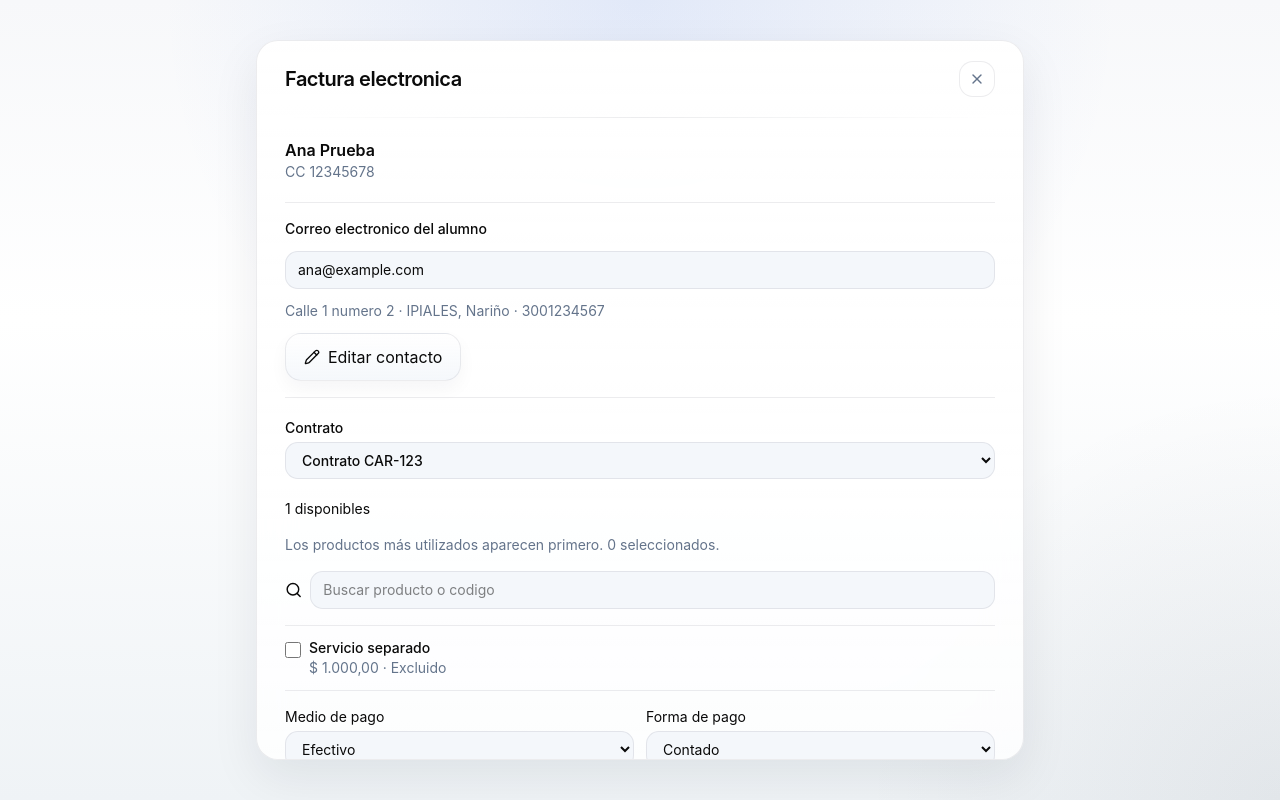
Scenario: no registra intentos fallidos ni selecciones canceladas
Click the checkbox labelled "Servicio separado" at [293, 650], box [285, 642, 301, 658]
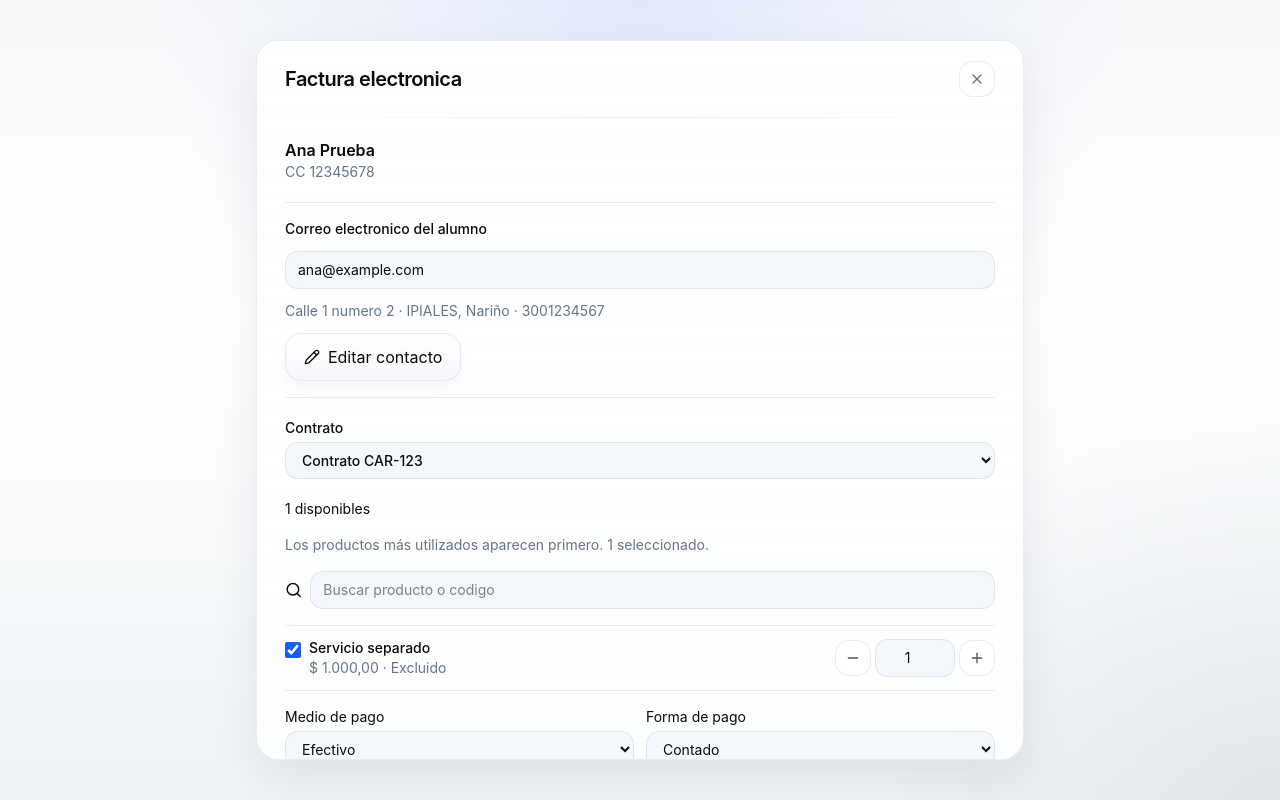
Click the checkbox labelled "Servicio separado" at [293, 650], box [285, 642, 301, 658]
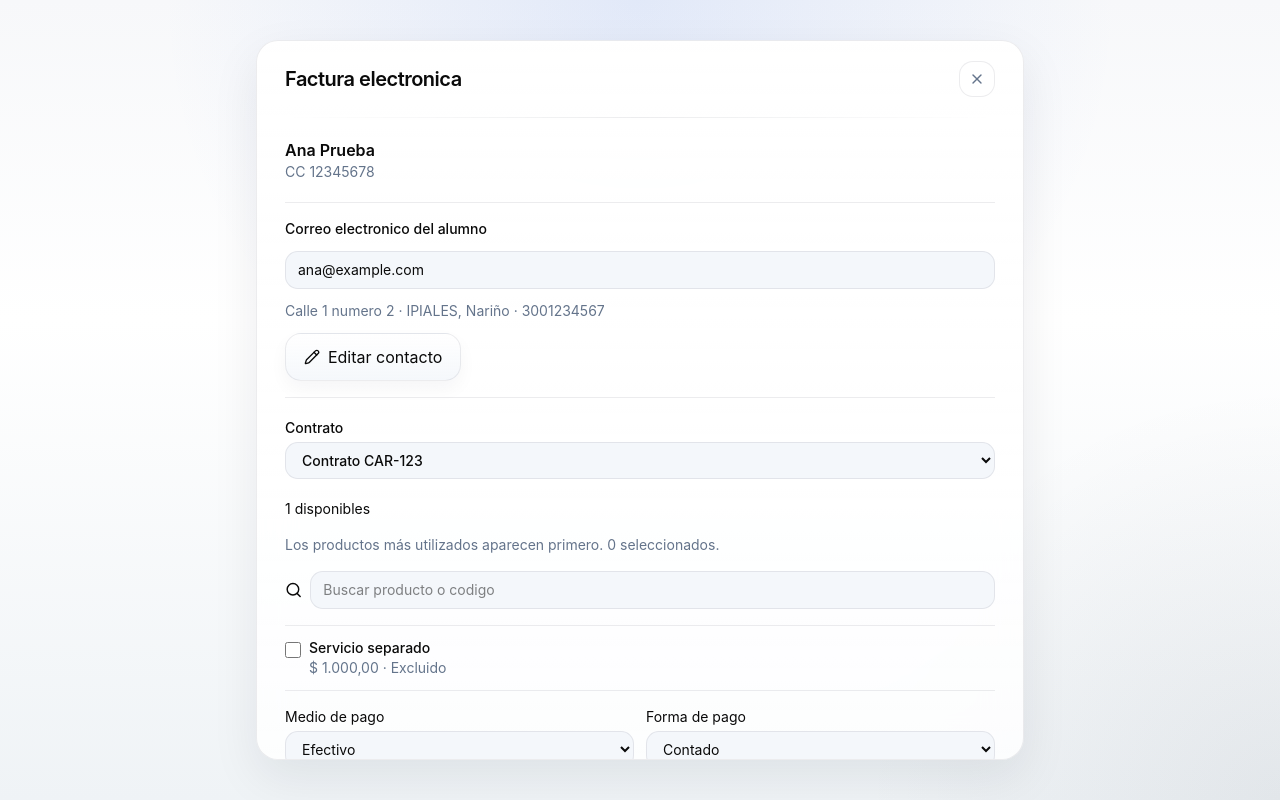
Click the checkbox labelled "Servicio separado" at [293, 650], box [285, 642, 301, 658]
(page scrolled)
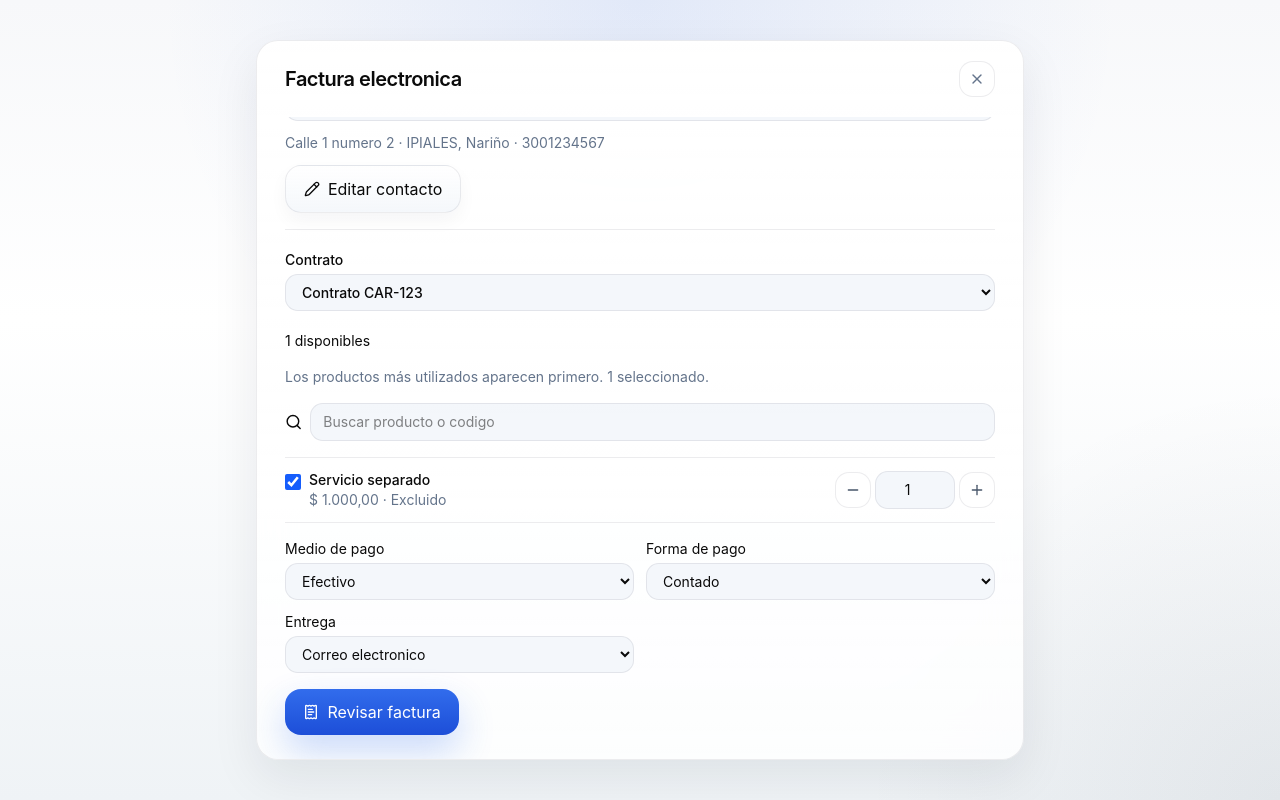
Click the button "Revisar factura" at [372, 712], box [285, 689, 459, 735]
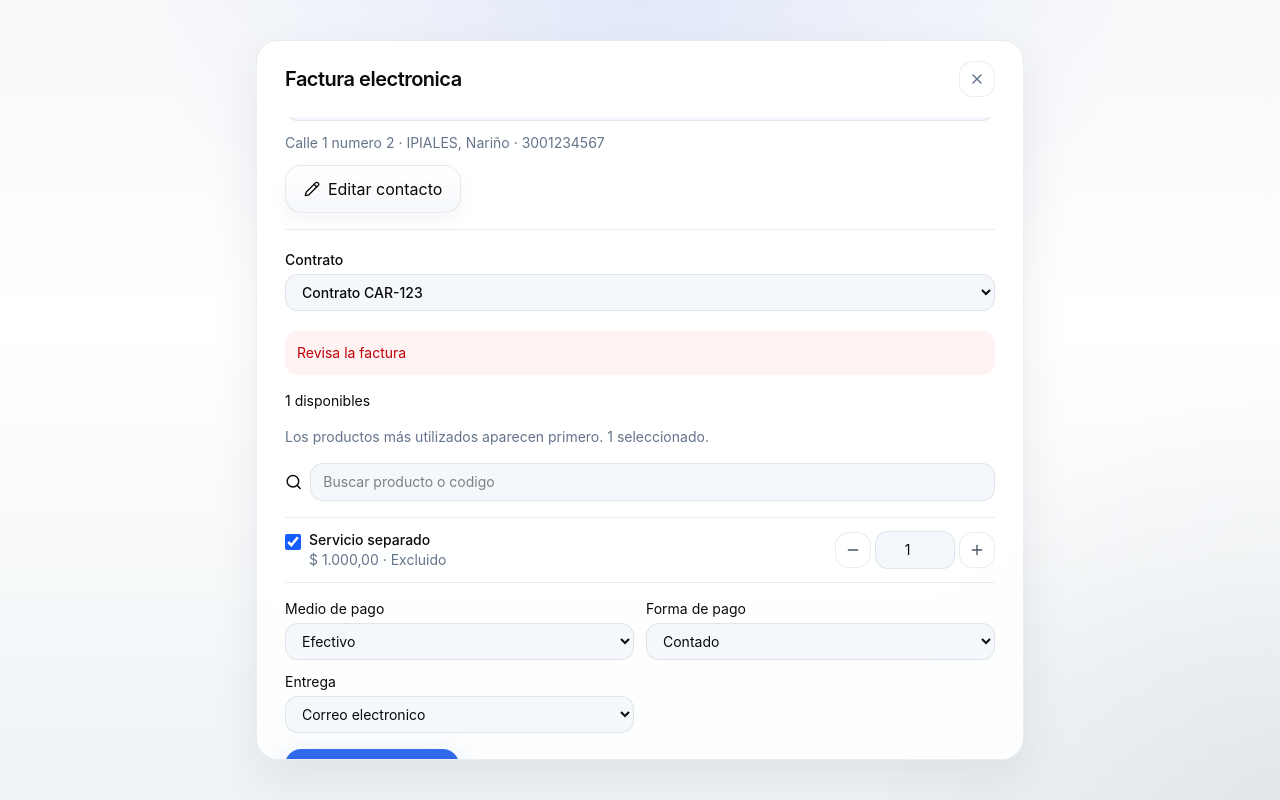
Expected: the text "Revisa la factura" is shown, [285, 331, 995, 375]
